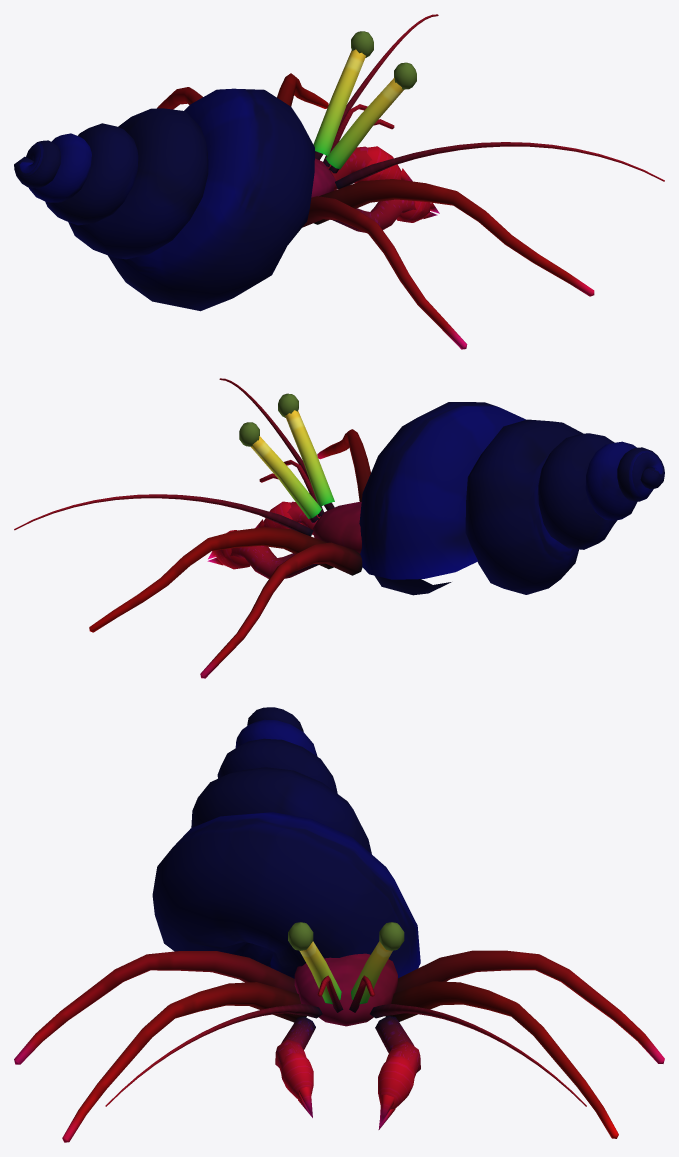
Rendered from hermit_scarlet.glb.
The picture shows the model from 3 angles, top to bottom: view 1: azimuth 30°, elevation 25°; view 2: azimuth 150°, elevation 25°; view 3: azimuth 270°, elevation 25°; orthographic projection. The views are drawn at different scales.
Parts seen in each view (by area): view 1: Shell, Legs, Eyes, Antennae, Claws, Body; view 2: Shell, Legs, Eyes, Antennae, Body, Claws; view 3: Shell, Legs, Claws, Body, Antennae, Eyes.
Boxes of the visible parts, left/top/right/bottom form: Shell: left=14, top=88, right=314, bottom=311; Legs: left=157, top=73, right=594, bottom=349; Eyes: left=313, top=31, right=416, bottom=169; Antennae: left=315, top=14, right=664, bottom=188; Claws: left=327, top=146, right=439, bottom=232; Body: left=311, top=158, right=335, bottom=197; Shell: left=359, top=402, right=664, bottom=594; Legs: left=89, top=429, right=370, bottom=678; Eyes: left=239, top=393, right=334, bottom=518; Antennae: left=14, top=378, right=334, bottom=536; Body: left=312, top=502, right=451, bottom=595; Claws: left=207, top=501, right=320, bottom=578; Shell: left=152, top=707, right=420, bottom=978; Legs: left=14, top=950, right=664, bottom=1142; Claws: left=275, top=1015, right=420, bottom=1129; Body: left=294, top=953, right=397, bottom=1026; Antennae: left=105, top=975, right=586, bottom=1106; Eyes: left=288, top=922, right=404, bottom=1004.
Size of the model in its own units: 1.25 by 0.403 by 1.18.
2 materials, 1 textured.
